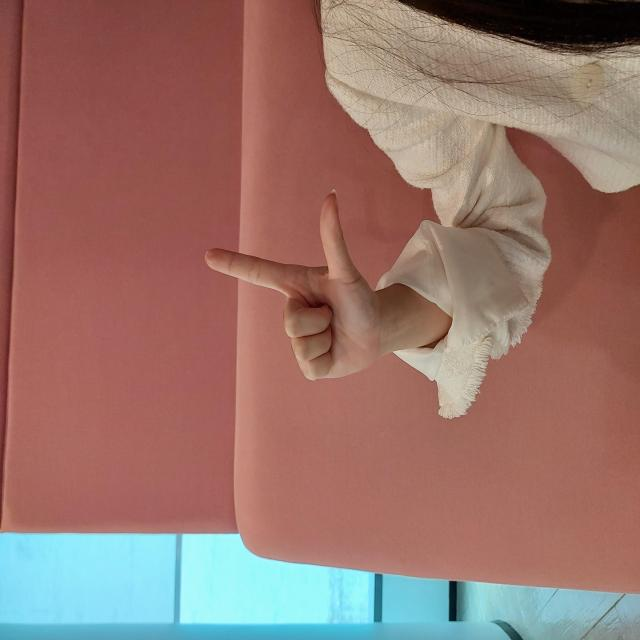L: (260, 205, 448, 374)
